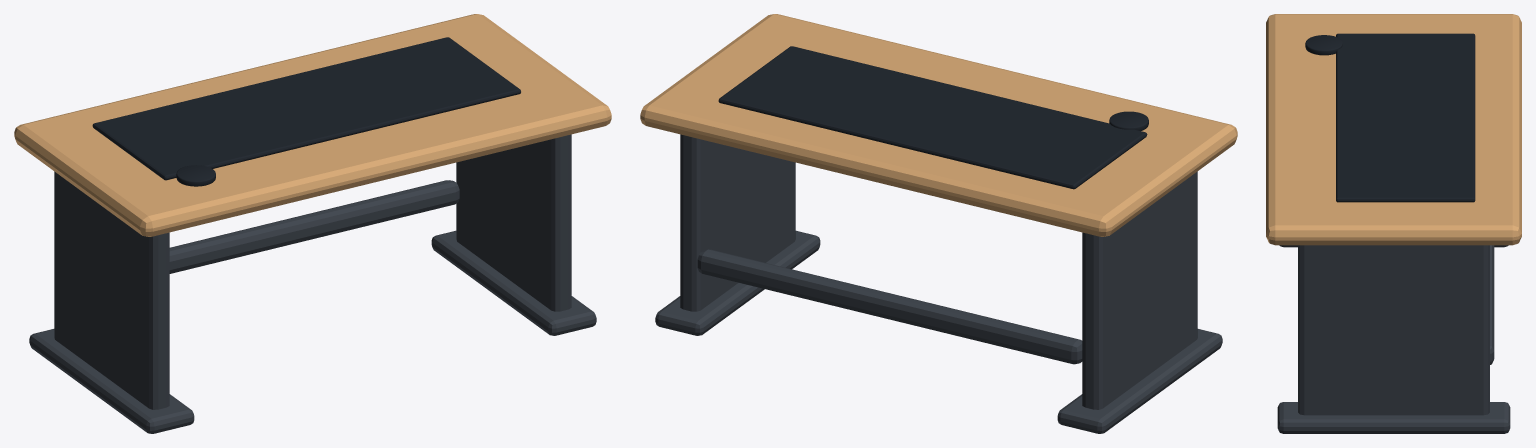
The model's file is desk-blender.glb.
The picture shows the model from 3 angles, left to right: view 1: azimuth 30°, elevation 25°; view 2: azimuth 150°, elevation 25°; view 3: azimuth 270°, elevation 25°; orthographic projection. The views are drawn at different scales.
Parts seen in each view (by area): view 1: desk · Graphite metal, desk · Natural oak, desk · Soft black; view 2: desk · Graphite metal, desk · Natural oak, desk · Soft black; view 3: desk · Graphite metal, desk · Natural oak, desk · Soft black.
Part boxes in pixels (<box>): desk · Graphite metal: <box>29,134,596,433</box>; desk · Natural oak: <box>14,14,611,236</box>; desk · Soft black: <box>92,37,520,186</box>; desk · Graphite metal: <box>655,134,1222,433</box>; desk · Natural oak: <box>640,14,1237,236</box>; desk · Soft black: <box>718,46,1148,189</box>; desk · Graphite metal: <box>1277,245,1510,433</box>; desk · Natural oak: <box>1266,14,1521,245</box>; desk · Soft black: <box>1305,33,1475,202</box>.
Bounding box in the file's own units: 1.78 × 0.8275 × 0.88.
